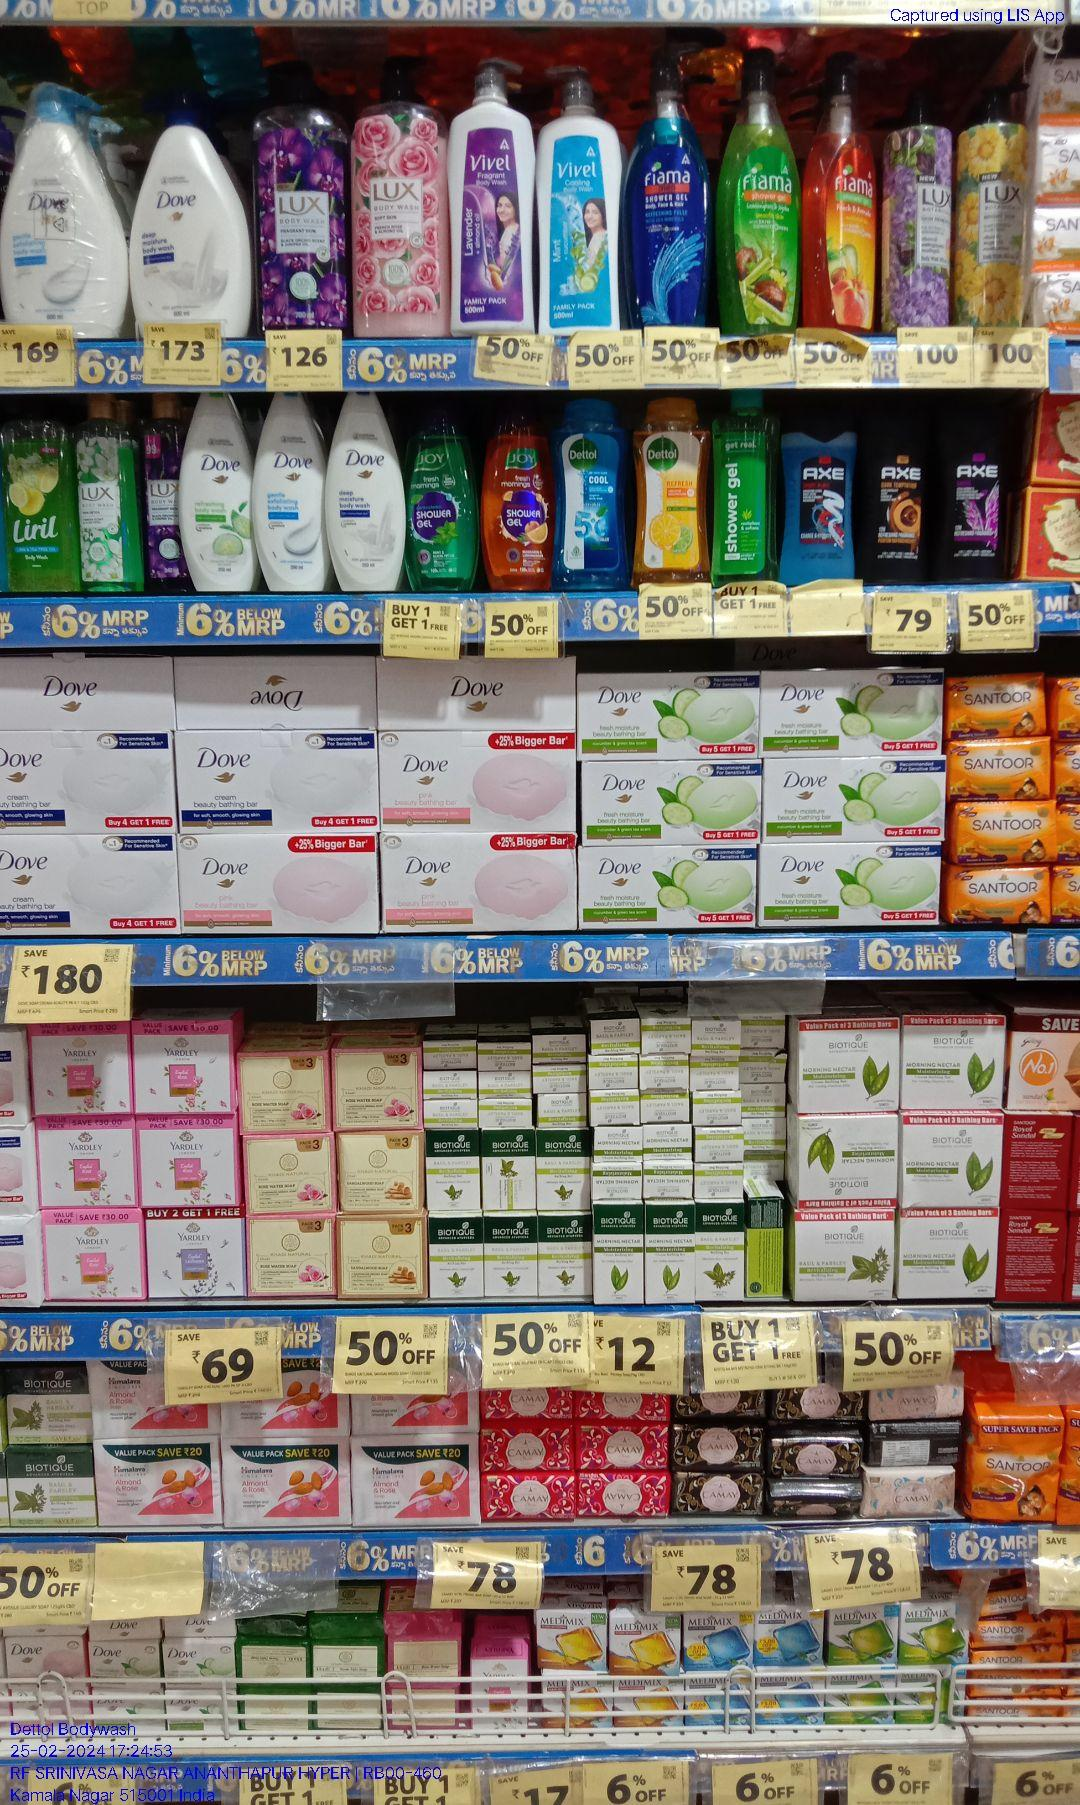Dettol_Bodywash_Cool: (558, 396, 630, 589)
Dettol_Bodywash_Refresh: (634, 395, 711, 580)
Dove_Deep_Moisture_Body_Wash_250ML: (324, 393, 406, 589)
Dove_Gentle_Exfoliating_Body_Wash_250ML: (253, 393, 323, 593)
Dove_Refreshing_Body_Wash_250ML: (183, 393, 249, 591)
Joy_Shower_Gel_Mandarin_and_Lemongrass_250ML: (482, 392, 554, 591)
Joy_Shower_Gel_Mint_and_Eucalyptus_250ML: (410, 393, 473, 591)
Liril_Lime_and_Tea_Tree_Oil_Body_Wash_250ML: (3, 396, 75, 595)
Lux_Black_Orchid_Scent_and_Juniper_Oil_Body_Wash_245ML: (144, 395, 176, 593)
Lux_Body_Wash_Skin_Detox_Freesia_Scent_and_Alove_Vera_245ML: (73, 396, 136, 588)
